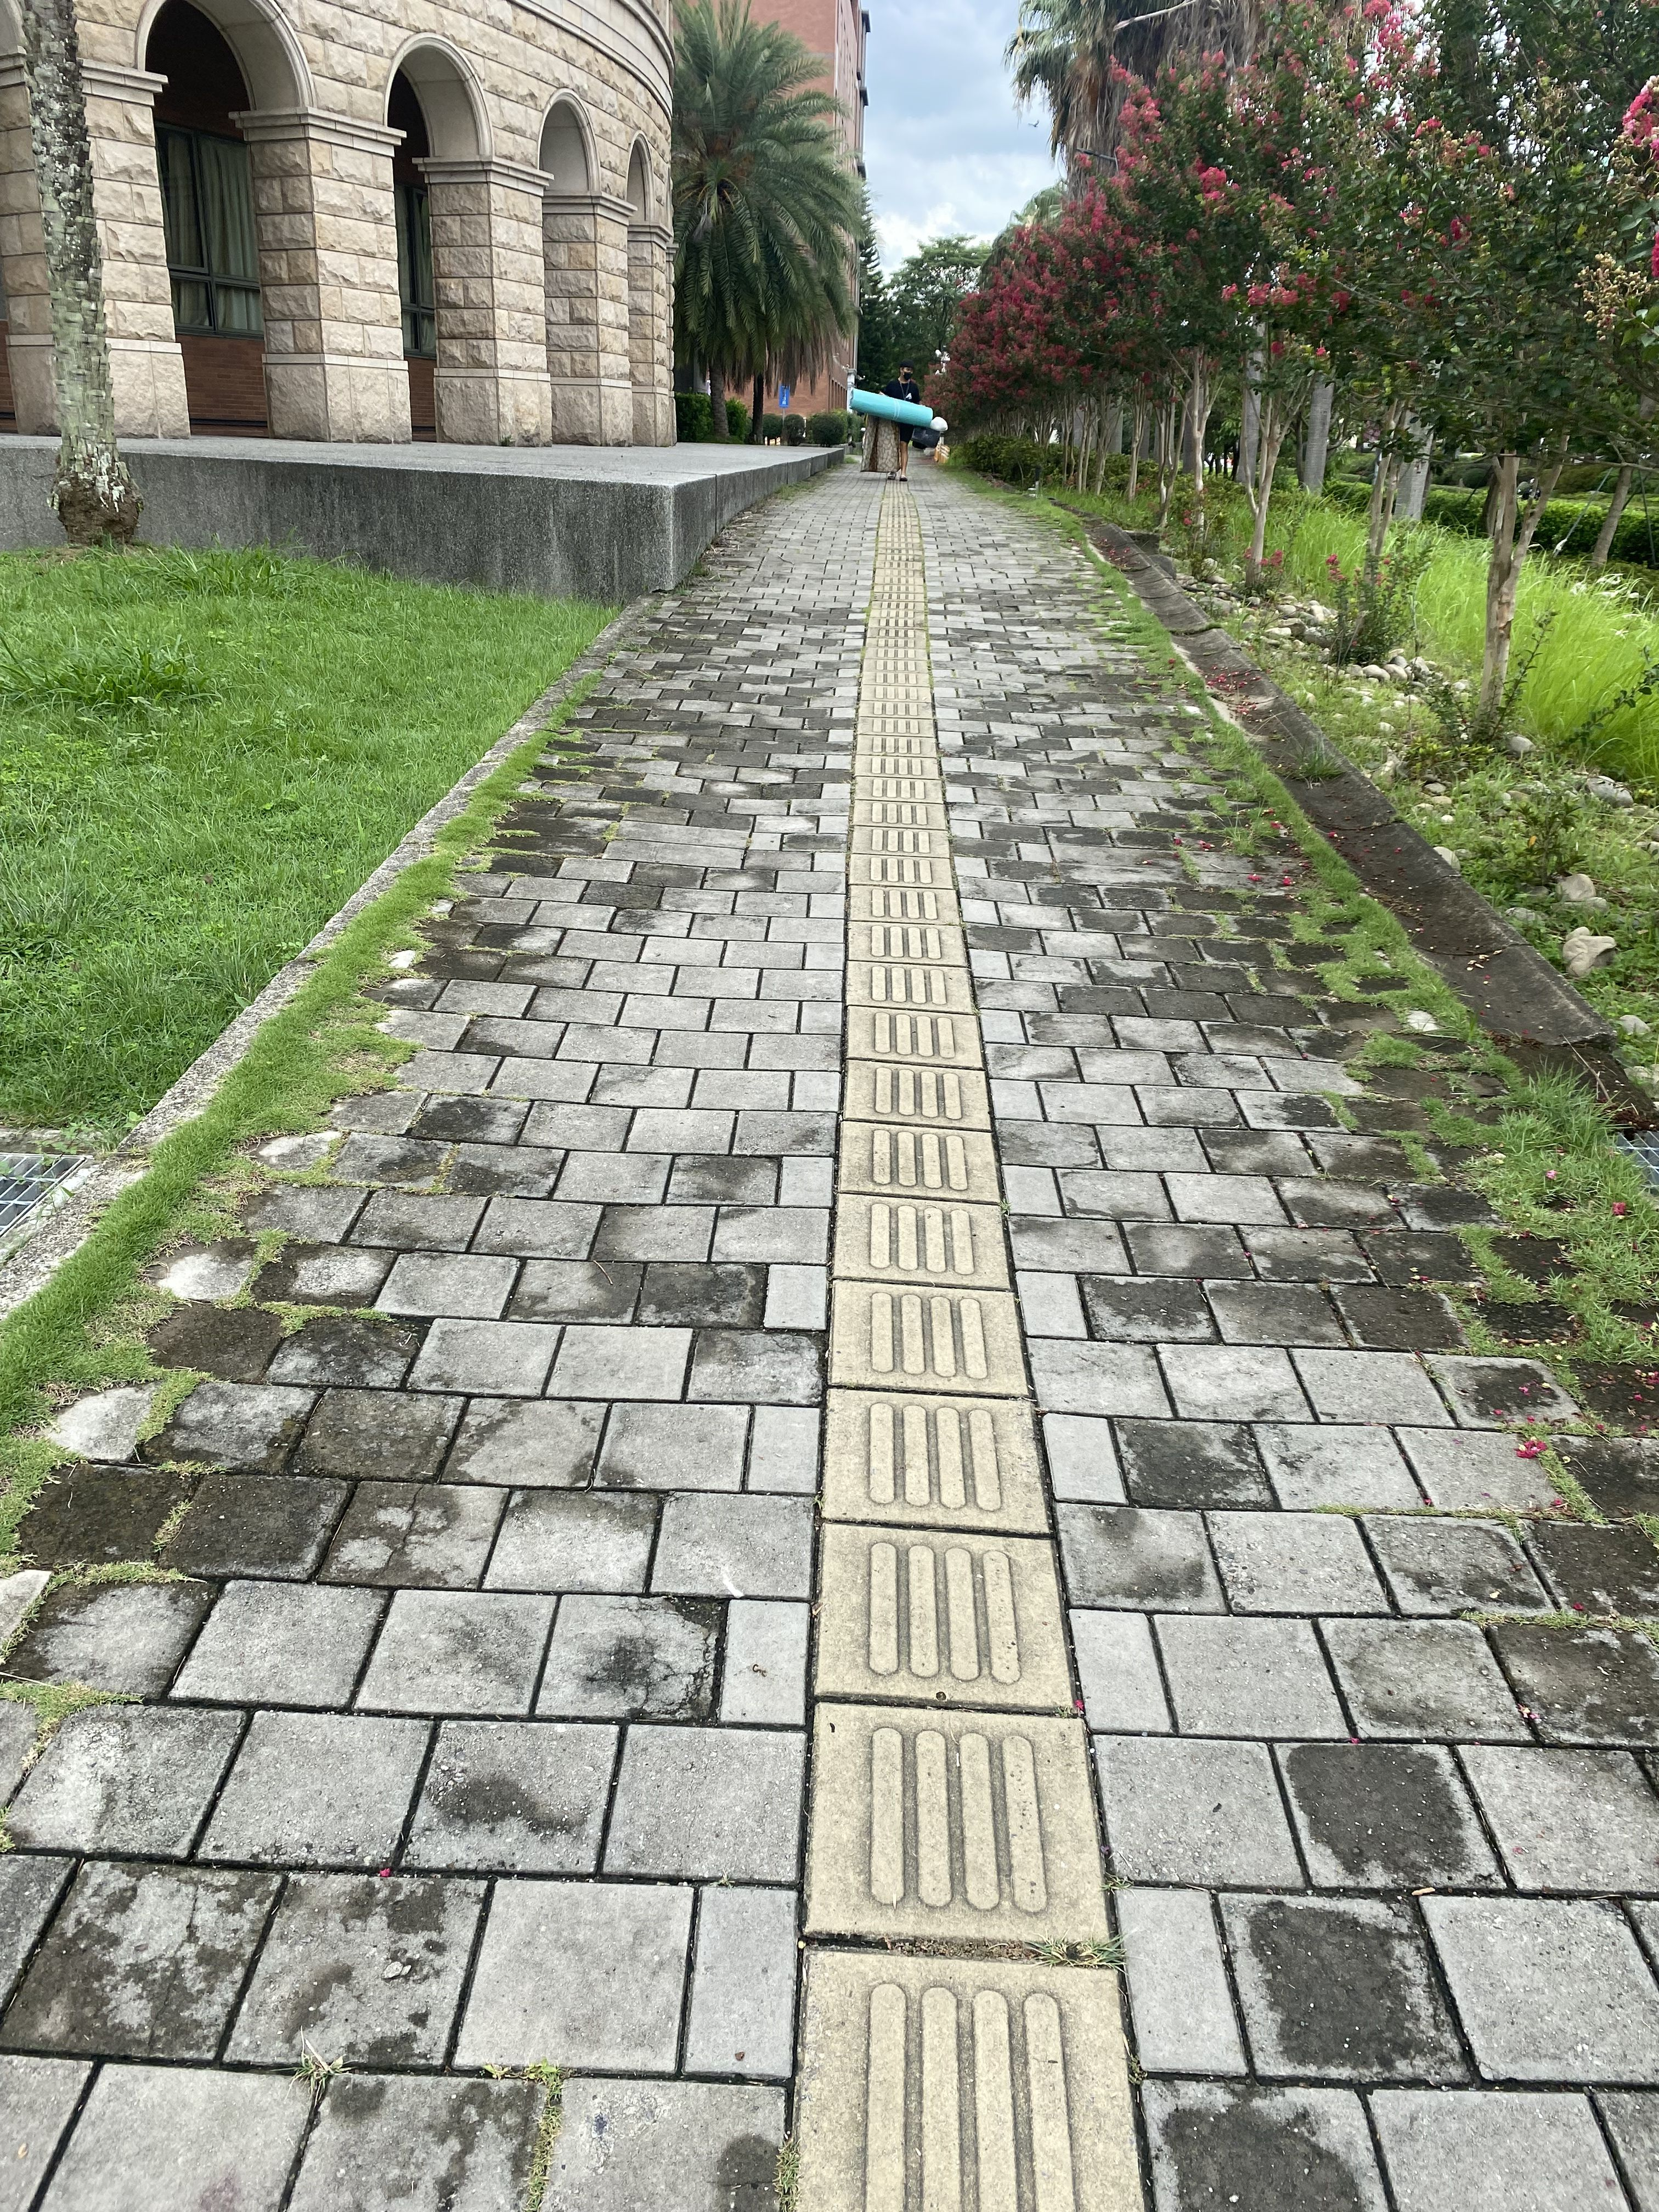sidewalk: (3, 460, 1633, 2212)
